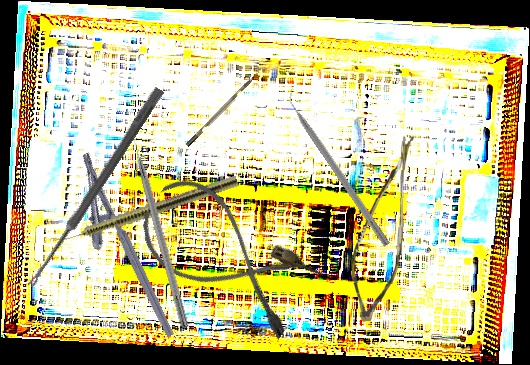Cannula: (126, 167, 327, 345)
Chopper: (280, 84, 399, 247), (182, 66, 263, 147)
Handpiece: (48, 172, 240, 251)
Hook Surgical: (126, 124, 191, 329)
Micro Scissor: (349, 130, 415, 323)
Needle Holder: (55, 151, 176, 350)
Surgical Spoon: (25, 85, 165, 291)
